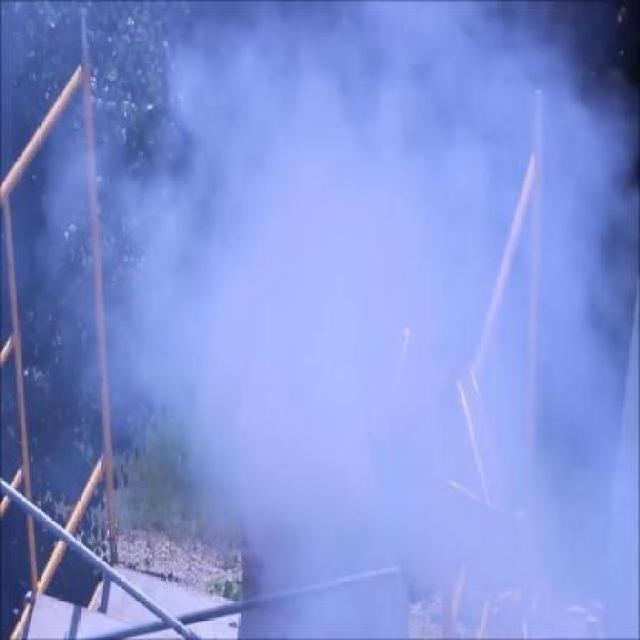smoke: (105, 26, 410, 509), (352, 10, 623, 532)
